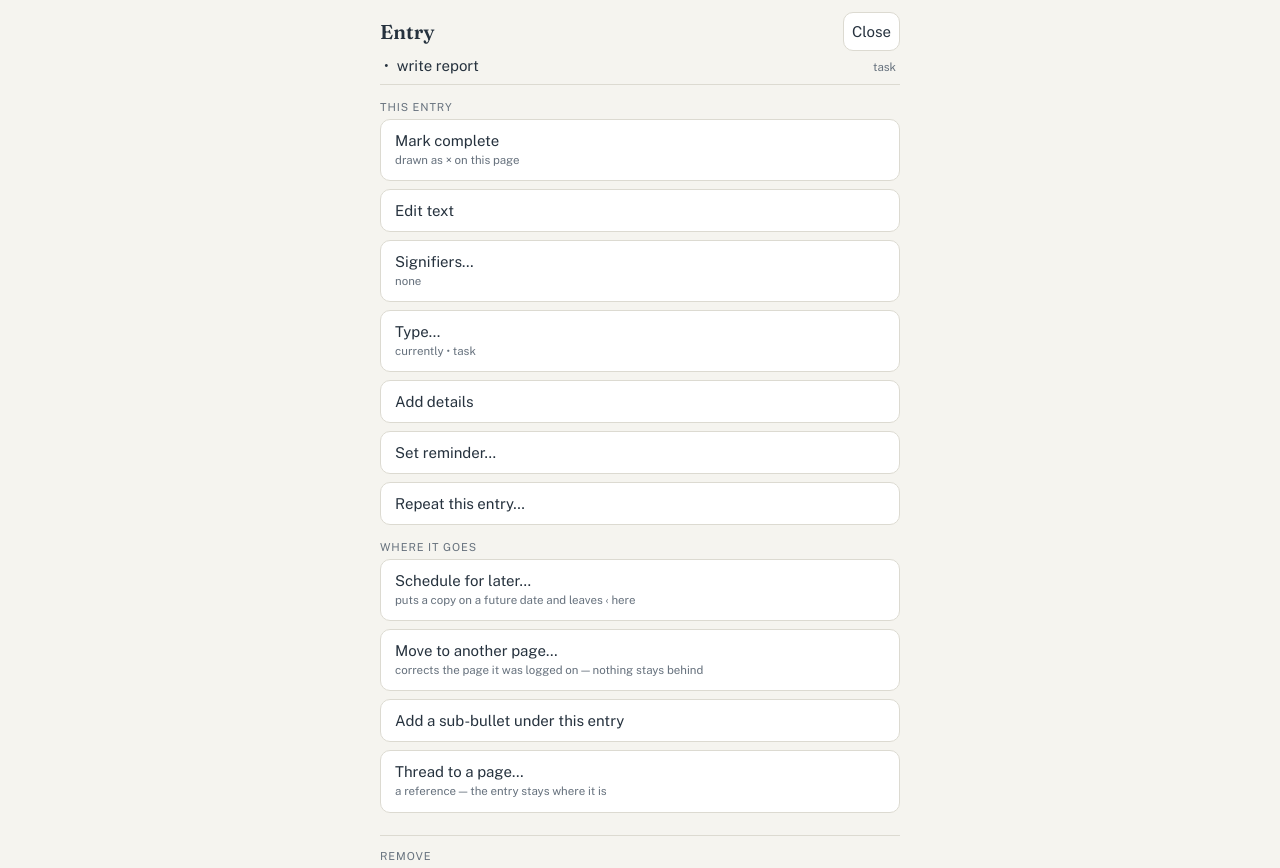
it: actions mode › Edit text opens the edit sub-form with the current text
What coordinates should you click on to do the following:
click the button "Edit text"
I would click on:
 (425, 211)
Its box is [380,189,900,232].
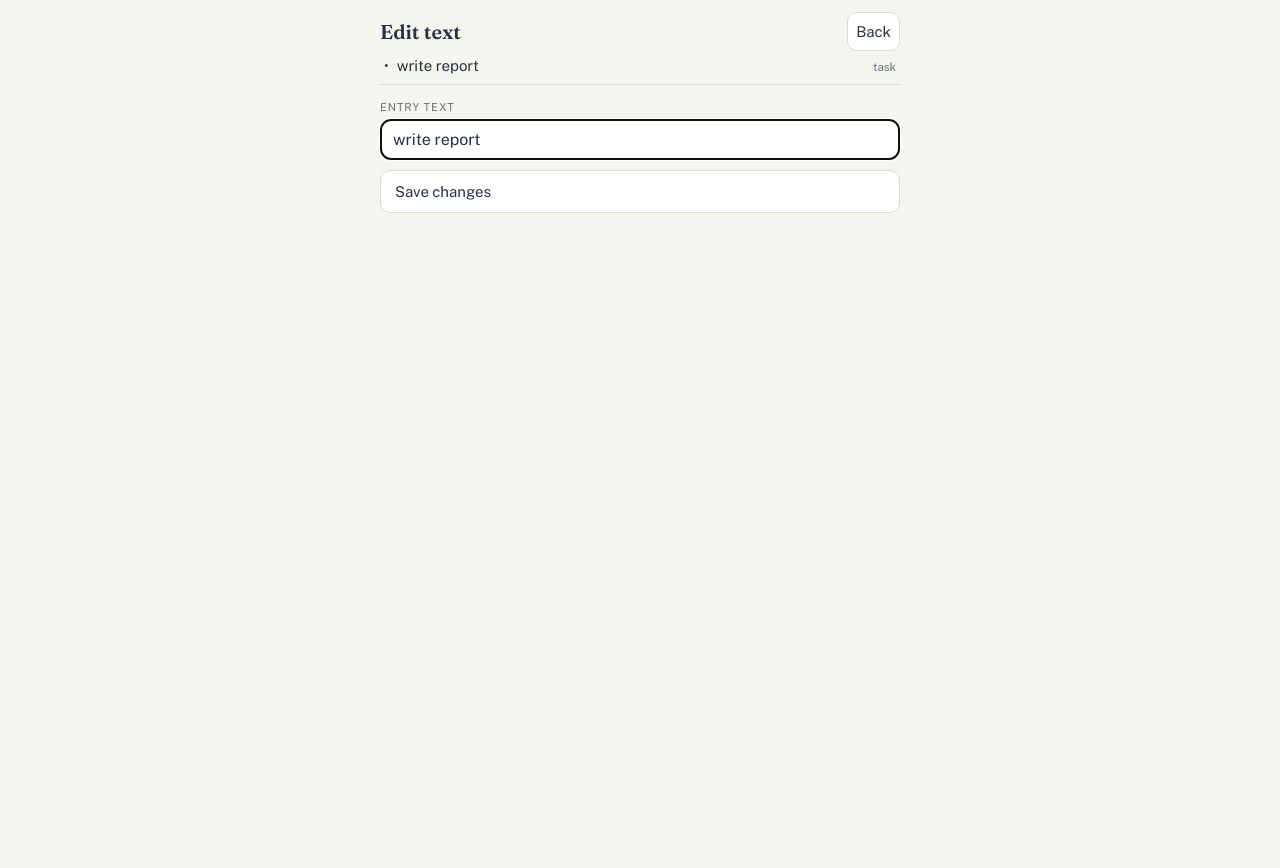
Expected: the field named "Entry text" holds "write report", [380,119,900,160]
